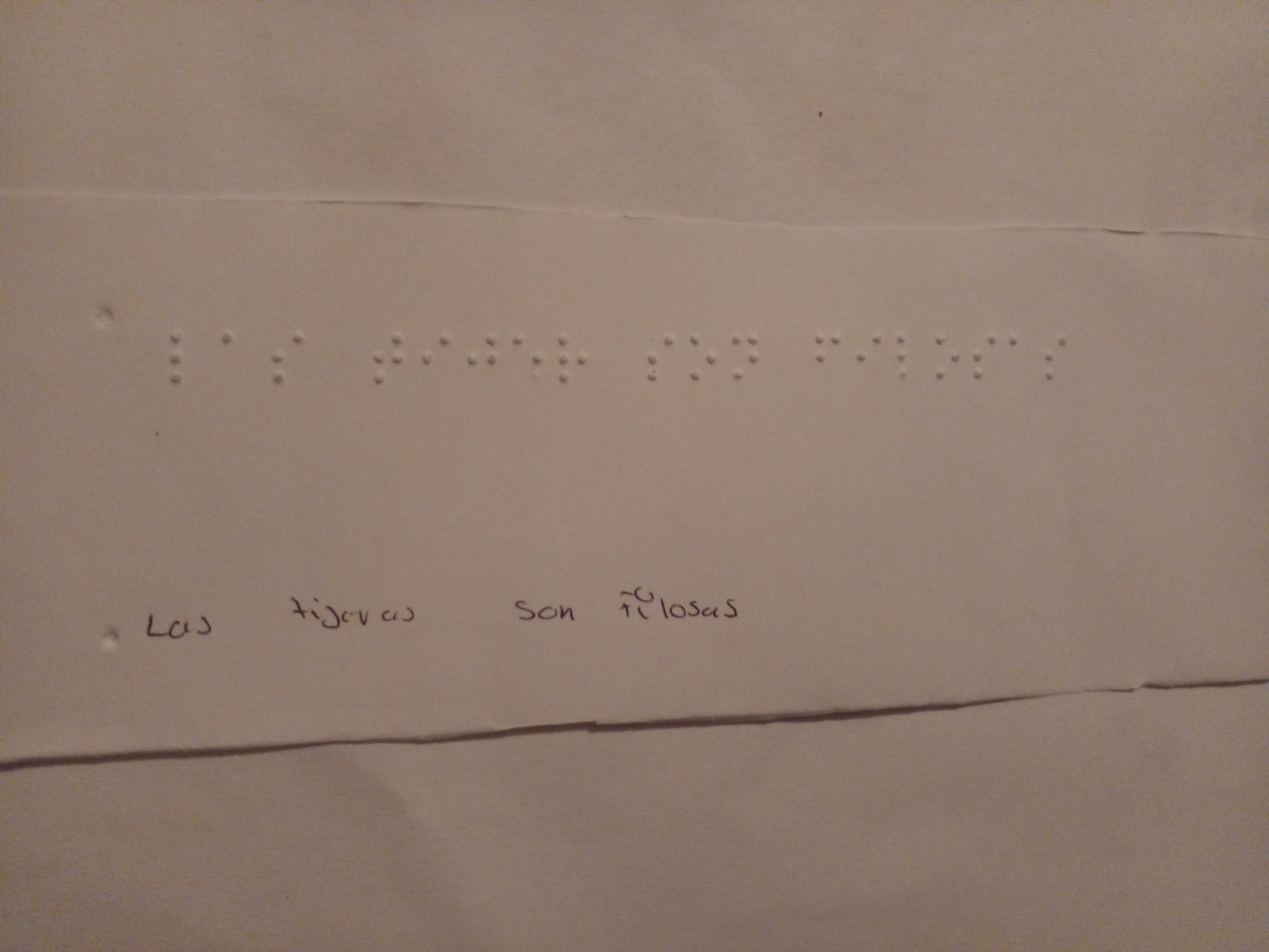a: (200, 319, 252, 373), (1001, 321, 1029, 377)
e: (514, 332, 550, 386)
f: (798, 325, 852, 378)
i: (417, 330, 452, 387), (855, 322, 886, 375)
j: (462, 327, 503, 387)
l: (166, 319, 198, 400), (897, 328, 922, 395)
n: (727, 322, 771, 395)
o: (682, 327, 722, 398), (933, 324, 964, 395)
r: (556, 328, 595, 401)
s: (263, 328, 310, 395), (643, 330, 683, 390), (971, 324, 1004, 390), (1041, 325, 1072, 392)
t: (366, 327, 412, 400)
